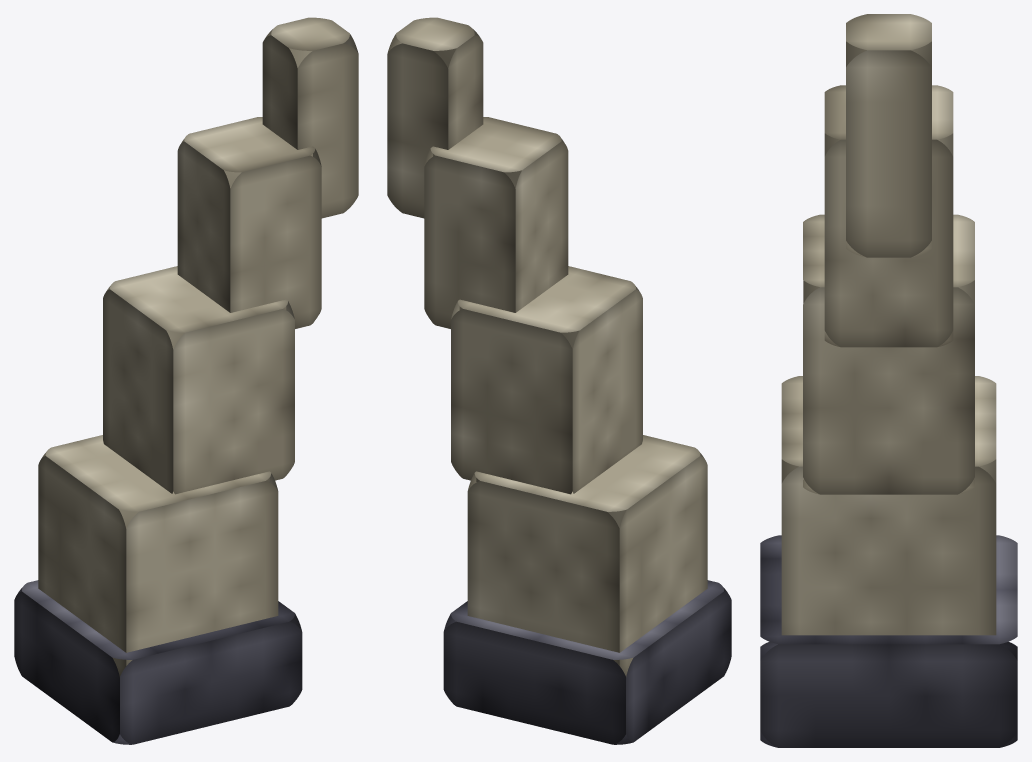
Rendered from captains_talon.obj.
3 renders of one model, left to right at view 1: azimuth 30°, elevation 25°; view 2: azimuth 150°, elevation 25°; view 3: azimuth 270°, elevation 25°, orthographic. The views are drawn at different scales.
Visible parts, largest first — view 1: lit; view 2: lit; view 3: lit.
Part boxes in pixels (left/top/right/bottom): lit: left=14, top=17, right=358, bottom=744; lit: left=387, top=17, right=731, bottom=744; lit: left=760, top=14, right=1017, bottom=747.
Bounding box in the file's own units: 0.3375 × 0.725 × 0.225.
